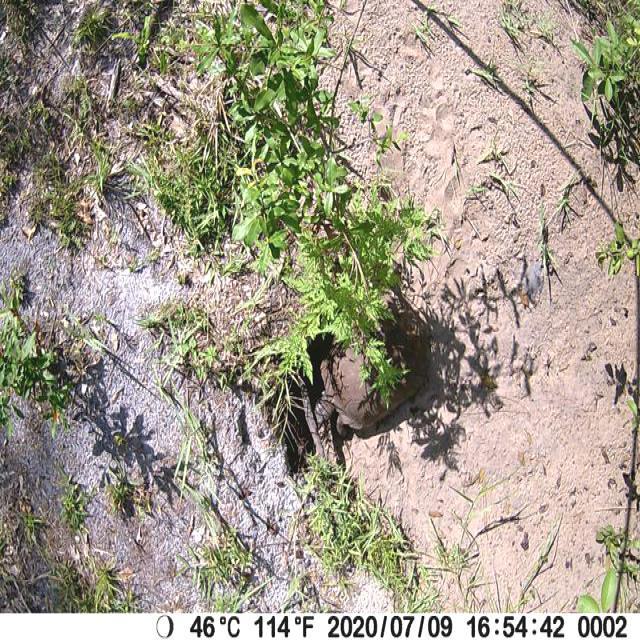tortoise: (312, 285, 428, 439)
